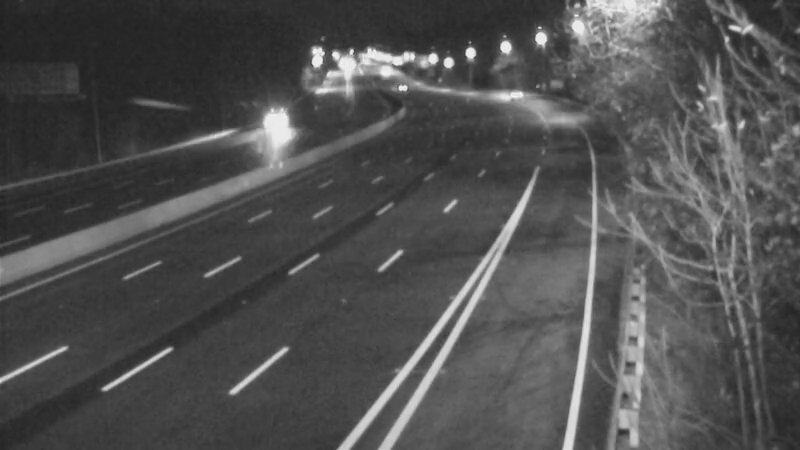vehicle: (374, 59, 424, 109), (490, 68, 540, 118), (241, 102, 291, 152)
